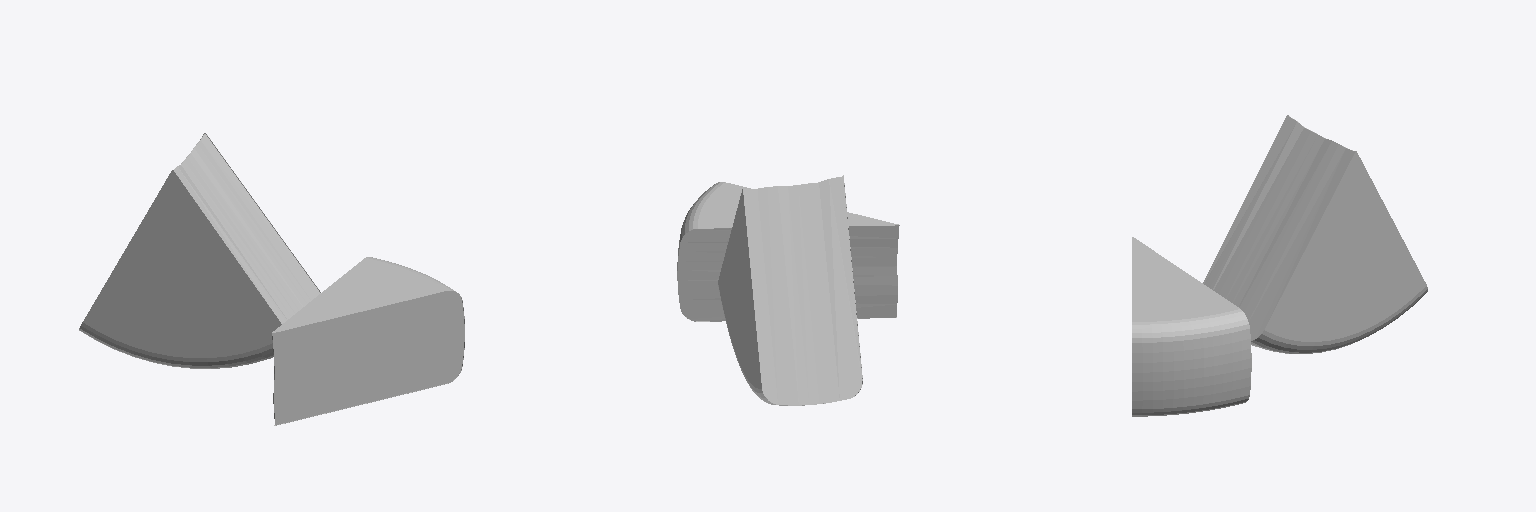
File: [cheese 03].obj
The picture shows the model from 3 angles: view 1: azimuth 30°, elevation 25°; view 2: azimuth 150°, elevation 25°; view 3: azimuth 270°, elevation 25°; orthographic projection.
Visible parts, largest first — view 1: ChamferCyl01, ChamferCyl02; view 2: ChamferCyl01, ChamferCyl02; view 3: ChamferCyl01, ChamferCyl02.
Part boxes in pixels (x1,y1,x2,y2): ChamferCyl01: (79, 133, 320, 368); ChamferCyl02: (272, 257, 464, 425); ChamferCyl01: (718, 175, 862, 405); ChamferCyl02: (677, 182, 899, 321); ChamferCyl01: (1203, 115, 1427, 353); ChamferCyl02: (1132, 237, 1251, 416).
Bounding box in the file's own units: 22.79 × 16.56 × 21.7.